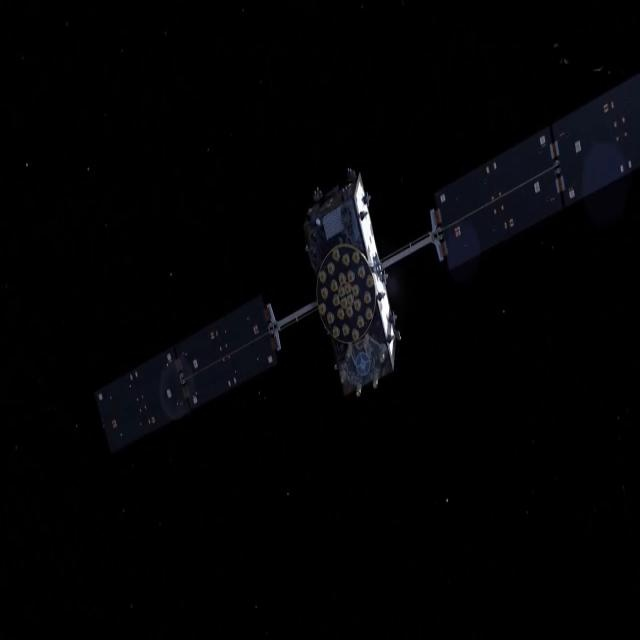medium_debris: (87, 63, 638, 481)
